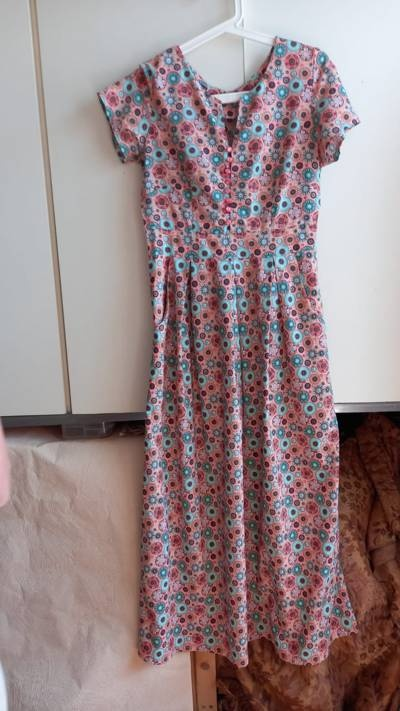Dress: (99, 22, 378, 675)
